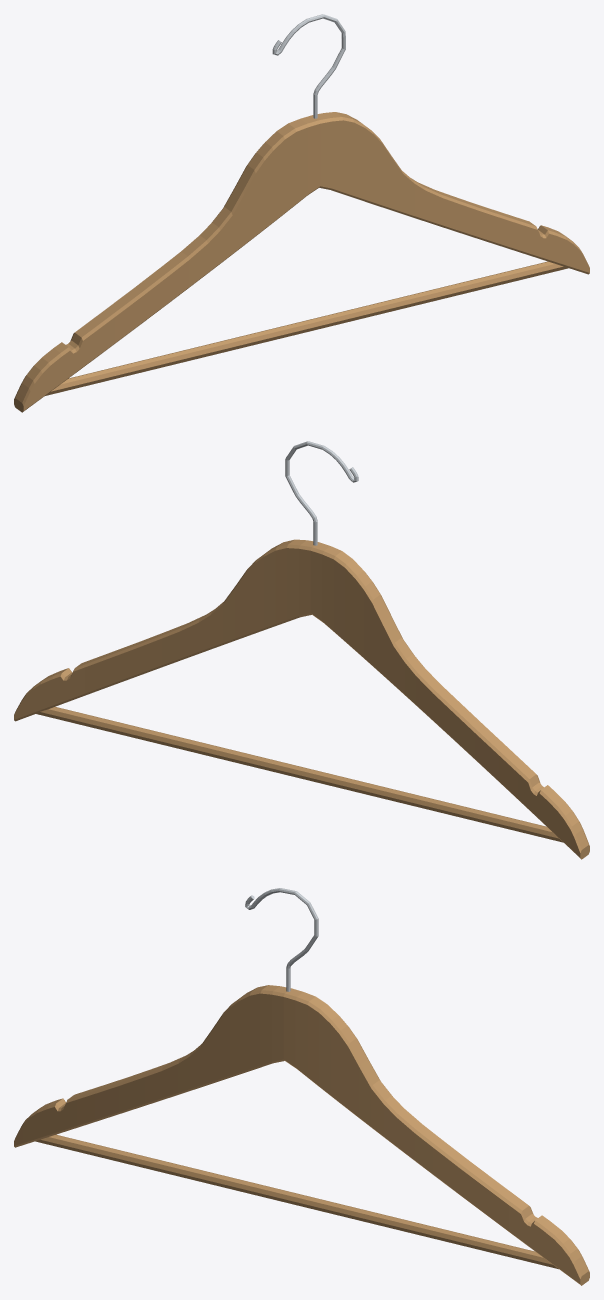
3 views of the same model, one above another, from view 1: azimuth 30°, elevation 25°; view 2: azimuth 150°, elevation 25°; view 3: azimuth 330°, elevation 25° (orthographic).
Visible parts, largest first — view 1: Wooden_wishbone_shoulders_with_strap_notches, Fixed_round_wooden_trouser_bar, Open_metal_hook_seated_in_crown; view 2: Wooden_wishbone_shoulders_with_strap_notches, Fixed_round_wooden_trouser_bar, Open_metal_hook_seated_in_crown; view 3: Wooden_wishbone_shoulders_with_strap_notches, Fixed_round_wooden_trouser_bar, Open_metal_hook_seated_in_crown.
Boxes of the visible parts, left/top/right/bottom form: Wooden_wishbone_shoulders_with_strap_notches: left=14, top=112, right=589, bottom=412; Fixed_round_wooden_trouser_bar: left=45, top=261, right=568, bottom=395; Open_metal_hook_seated_in_crown: left=272, top=14, right=345, bottom=118; Wooden_wishbone_shoulders_with_strap_notches: left=14, top=539, right=589, bottom=859; Fixed_round_wooden_trouser_bar: left=36, top=706, right=563, bottom=842; Open_metal_hook_seated_in_crown: left=285, top=441, right=358, bottom=545; Wooden_wishbone_shoulders_with_strap_notches: left=14, top=985, right=589, bottom=1285; Fixed_round_wooden_trouser_bar: left=35, top=1134, right=558, bottom=1269; Open_metal_hook_seated_in_crown: left=245, top=888, right=318, bottom=991.
Bounding box in the file's own units: 0.4318 × 0.244 × 0.0307.
